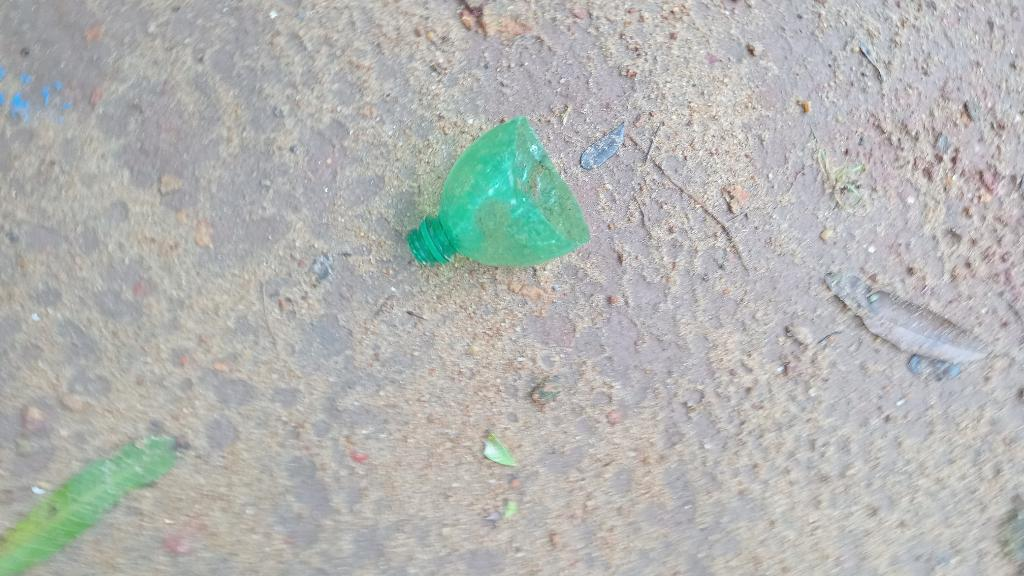garbage: (375, 95, 606, 293)
